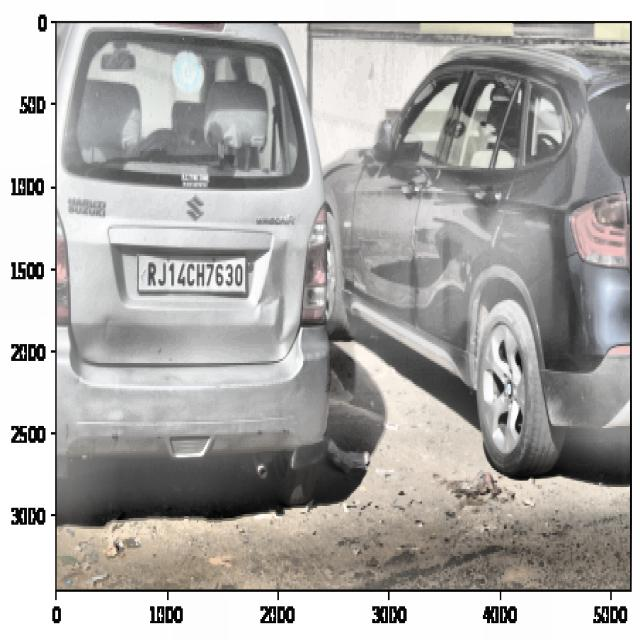license_plate: (143, 259, 247, 293)
